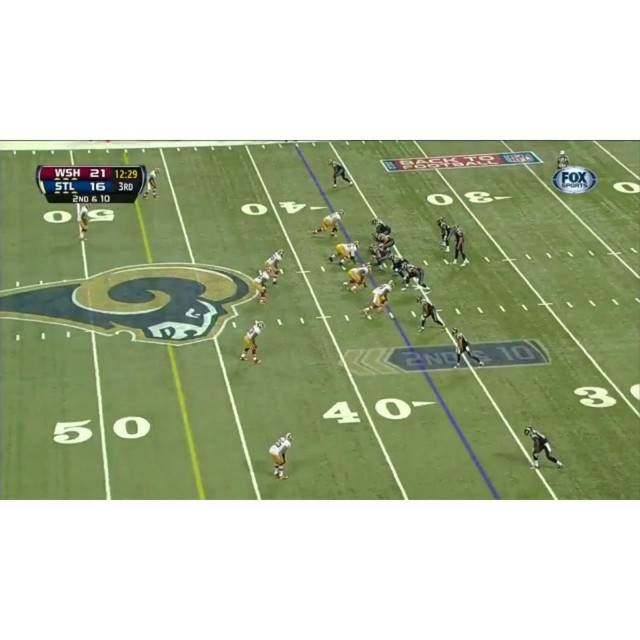american-football-player: (524, 426, 564, 471), (452, 328, 484, 368), (363, 279, 395, 319), (269, 432, 294, 480), (415, 295, 445, 332), (240, 320, 265, 362), (327, 240, 362, 269), (311, 209, 345, 238), (399, 263, 430, 292), (252, 267, 274, 306), (343, 265, 371, 294), (450, 223, 468, 267), (328, 158, 352, 189), (265, 249, 285, 285), (367, 243, 389, 272), (142, 168, 160, 200), (436, 217, 452, 251), (386, 252, 407, 277), (77, 204, 91, 241), (373, 233, 397, 253), (371, 217, 393, 238)
